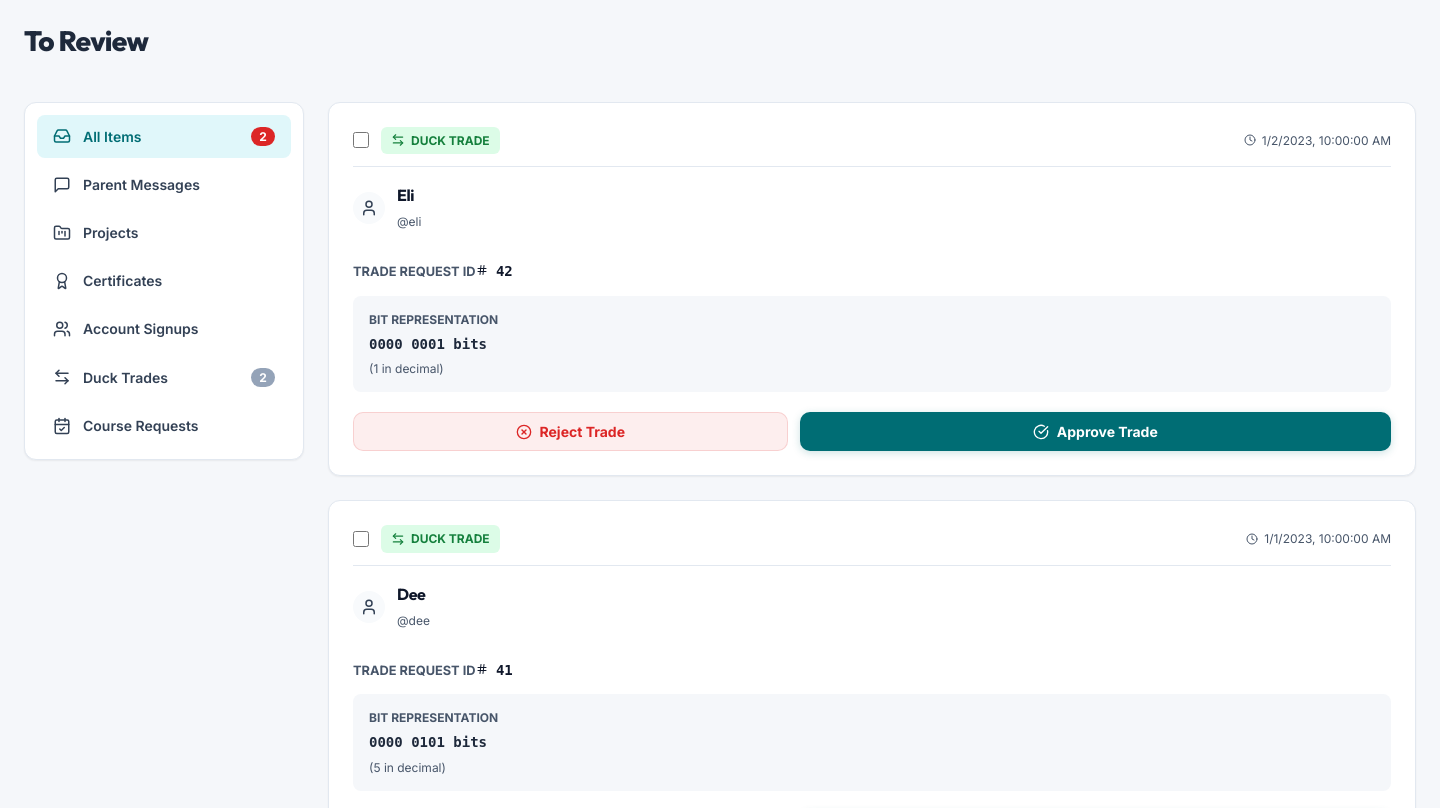
it: ToReview Component › review actions › duck trades › uses the singular for a bulk run of one trade and a destructive prompt for rejection
Check: the text "All Items" is shown, box x1=83 y1=128 x2=142 y2=145
Click the text "Duck Trades". click: (126, 377)
box: x1=83 y1=369 x2=168 y2=386
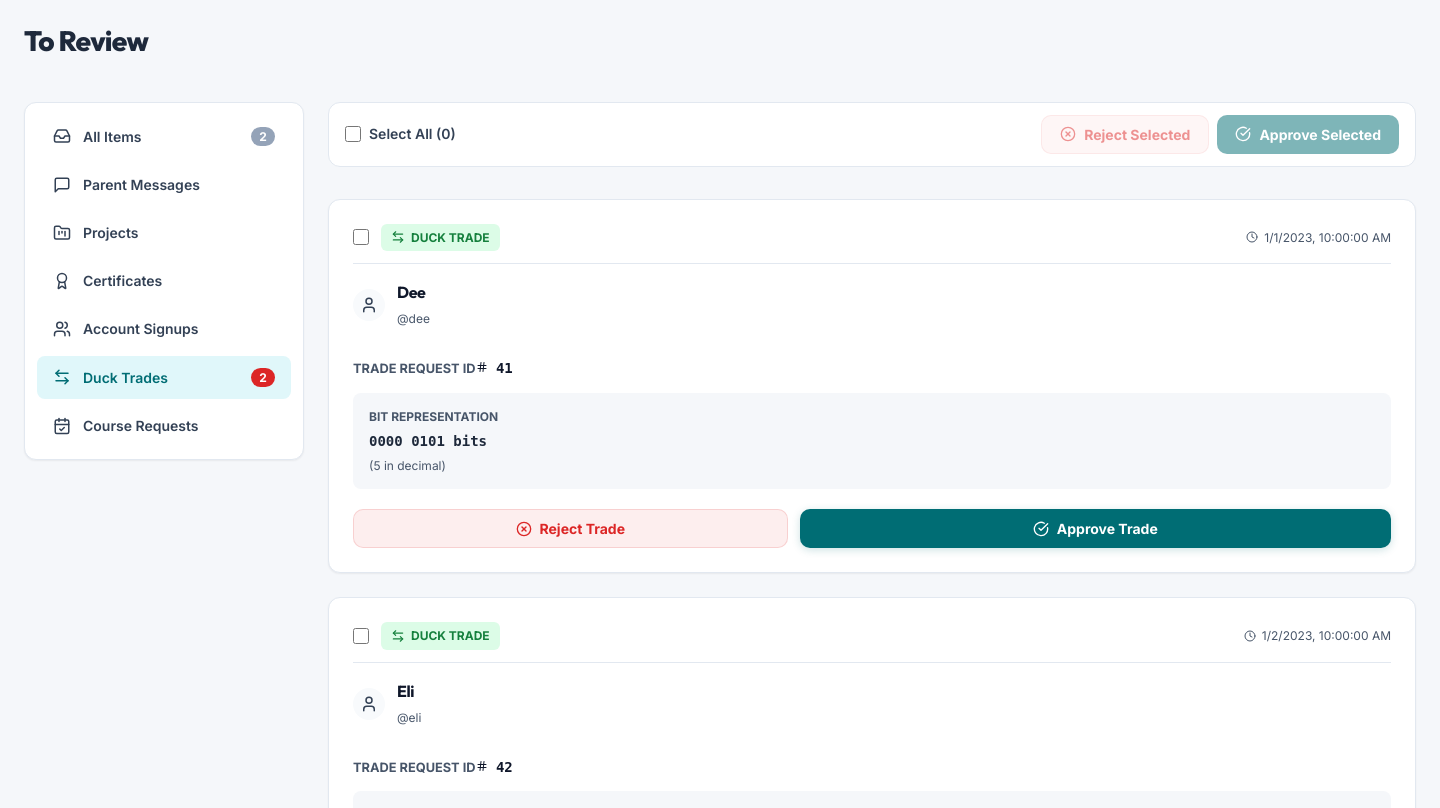
Click the checkbox named "Select duck trade from @dee". click: (361, 237)
box: x1=353 y1=229 x2=369 y2=245
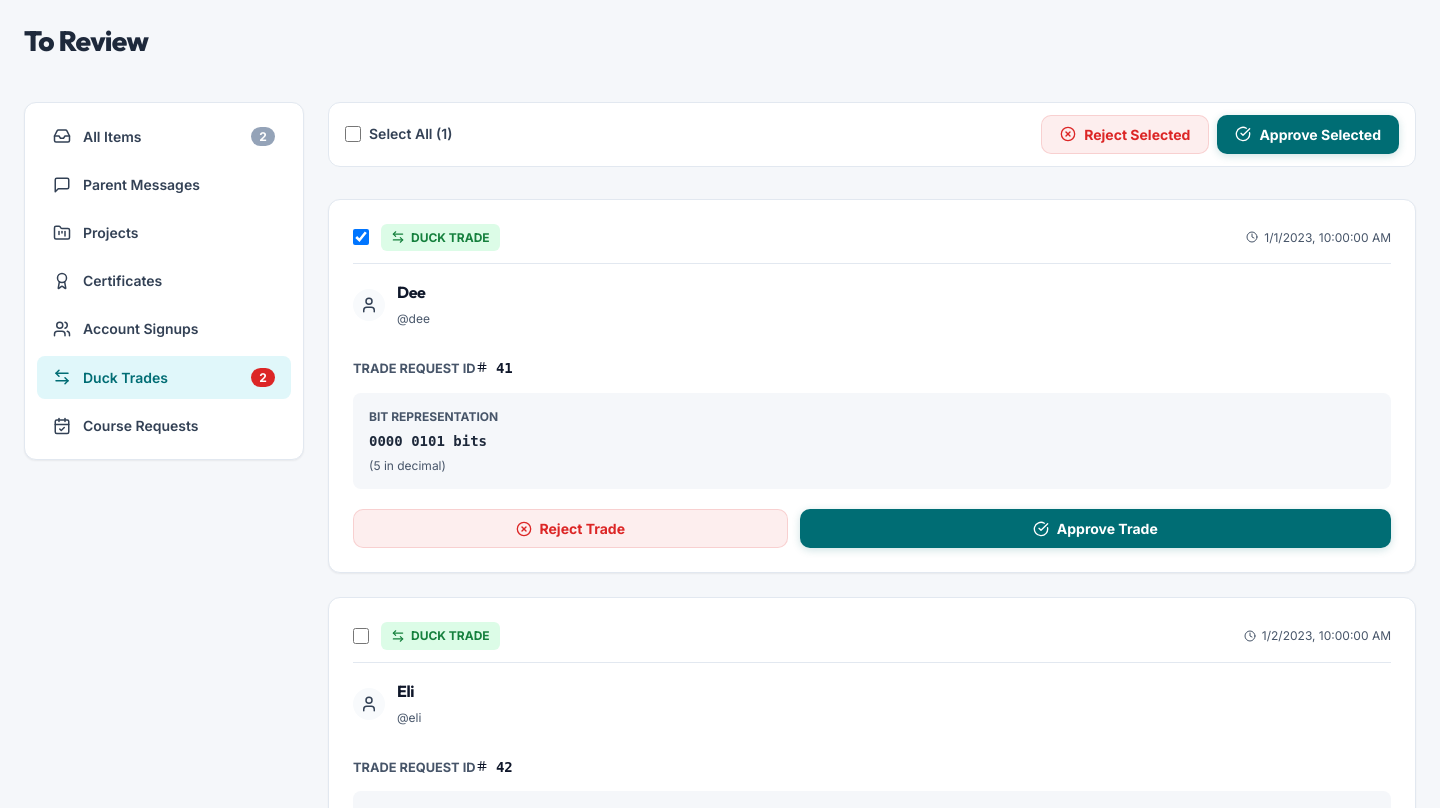
Click the button "Reject Selected". click: (1125, 134)
box: x1=1041 y1=115 x2=1209 y2=154
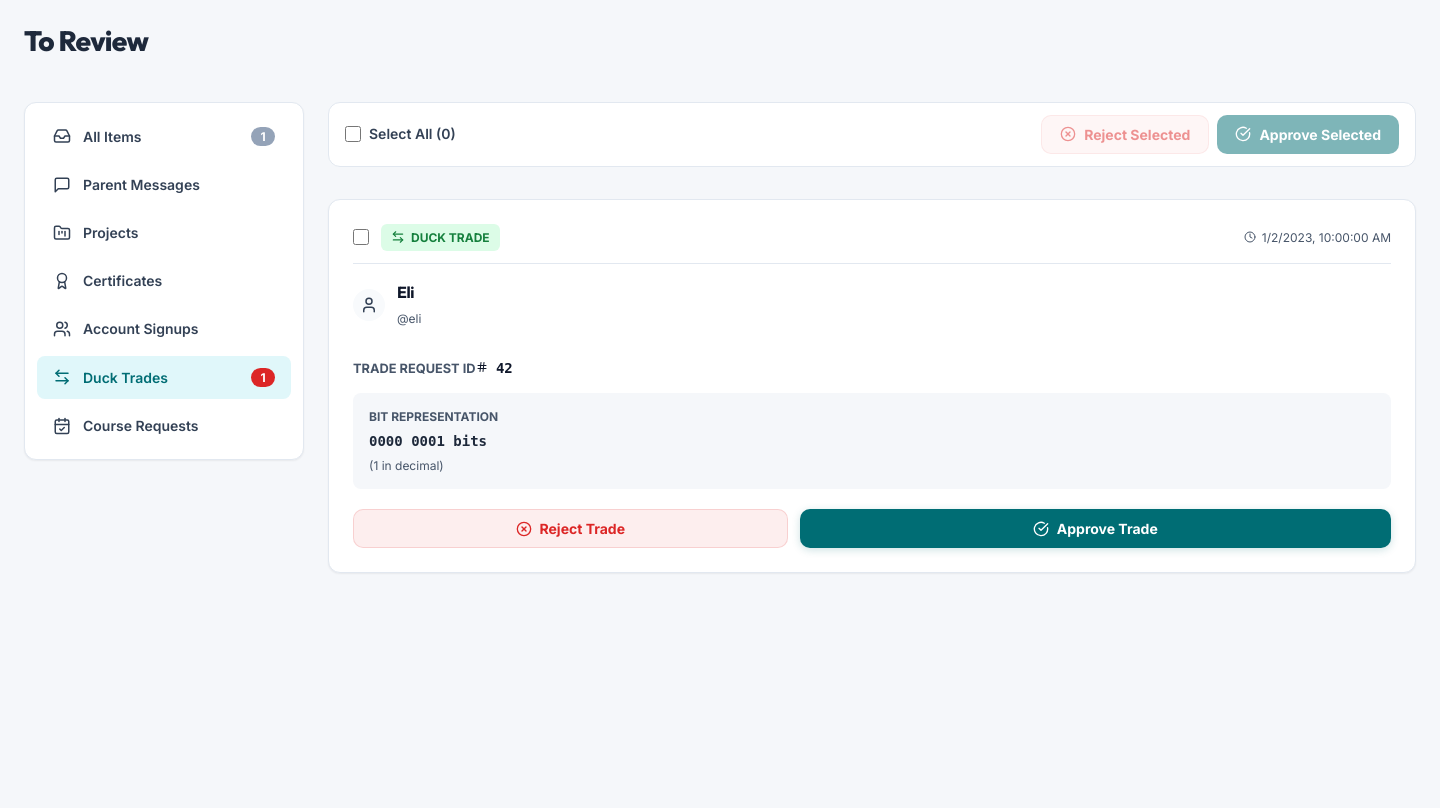
Check: the text "@dee" is gone
